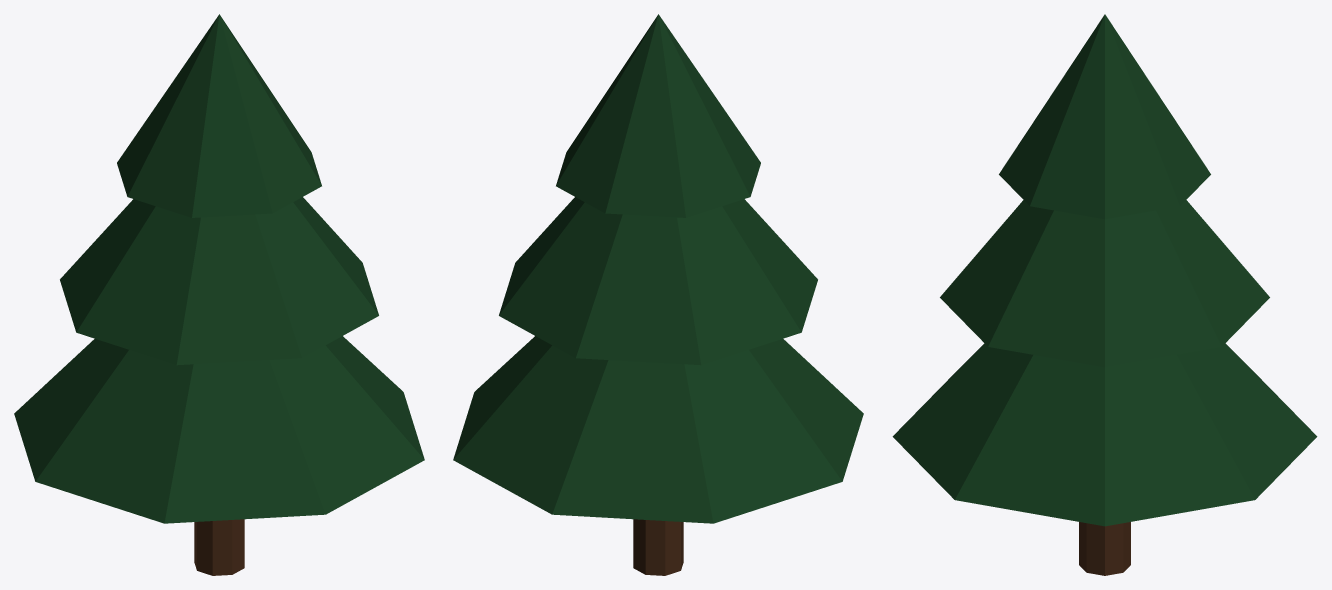
Rendered from pine_tree.obj.
The picture shows the model from 3 angles, left to right: view 1: azimuth 30°, elevation 25°; view 2: azimuth 150°, elevation 25°; view 3: azimuth 270°, elevation 25°; orthographic projection.
Parts seen in each view (by area): view 1: Cone, Cone.001, Cone.002, Cylinder; view 2: Cone, Cone.001, Cone.002, Cylinder; view 3: Cone, Cone.001, Cone.002, Cylinder.
Part boxes in pixels (x1,y1,x2,y2): Cone: (14, 336, 424, 523); Cone.001: (60, 197, 378, 365); Cone.002: (117, 14, 321, 217); Cylinder: (194, 519, 244, 575); Cone: (453, 336, 863, 523); Cone.001: (499, 197, 817, 365); Cone.002: (556, 14, 760, 217); Cylinder: (633, 519, 683, 575); Cone: (892, 343, 1317, 526); Cone.001: (940, 200, 1269, 367); Cone.002: (999, 14, 1210, 219); Cylinder: (1079, 522, 1130, 575).
Size of the model in its own units: 3.6 by 5.15 by 3.6.
